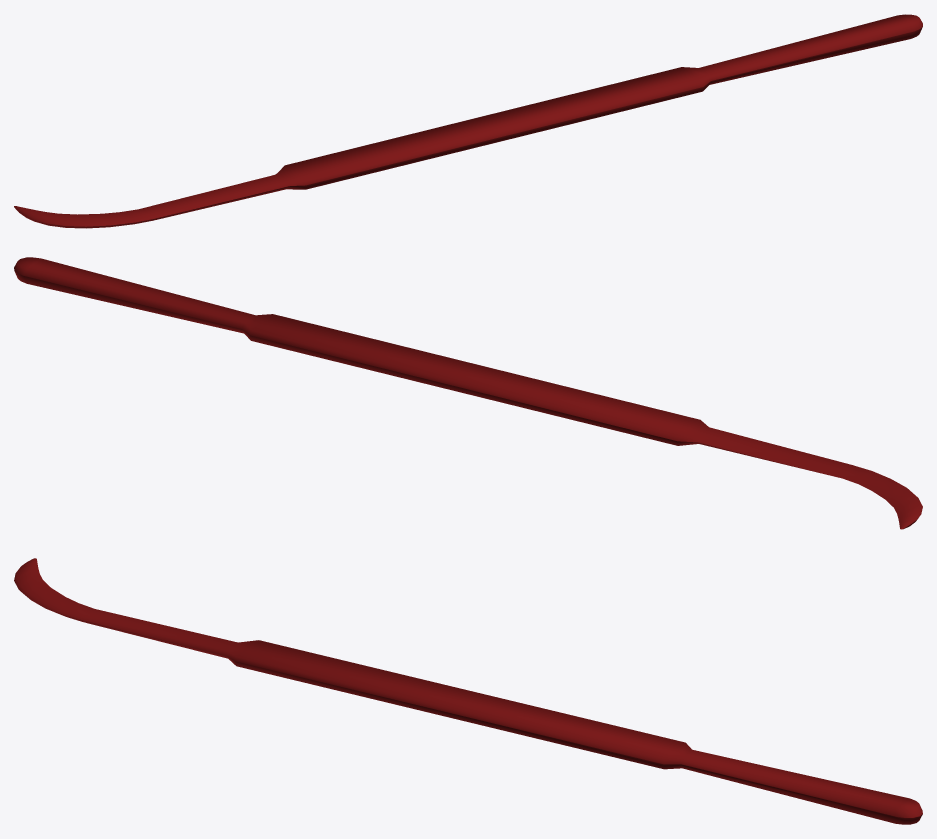
The model's file is SM_Dry_Dissector_1.FBX.
3 renders of one model, top to bottom at view 1: azimuth 30°, elevation 25°; view 2: azimuth 150°, elevation 25°; view 3: azimuth 330°, elevation 25°, orthographic. The views are drawn at different scales.
Visible parts, largest first — view 1: Dry_Dissector_1; view 2: Dry_Dissector_1; view 3: Dry_Dissector_1.
Boxes of the visible parts, x1,y1,x2,y2 form: Dry_Dissector_1: (14, 14, 922, 228); Dry_Dissector_1: (14, 257, 922, 529); Dry_Dissector_1: (14, 558, 922, 824).
Size of the model in its own units: 20.93 by 0.3216 by 2.21.
